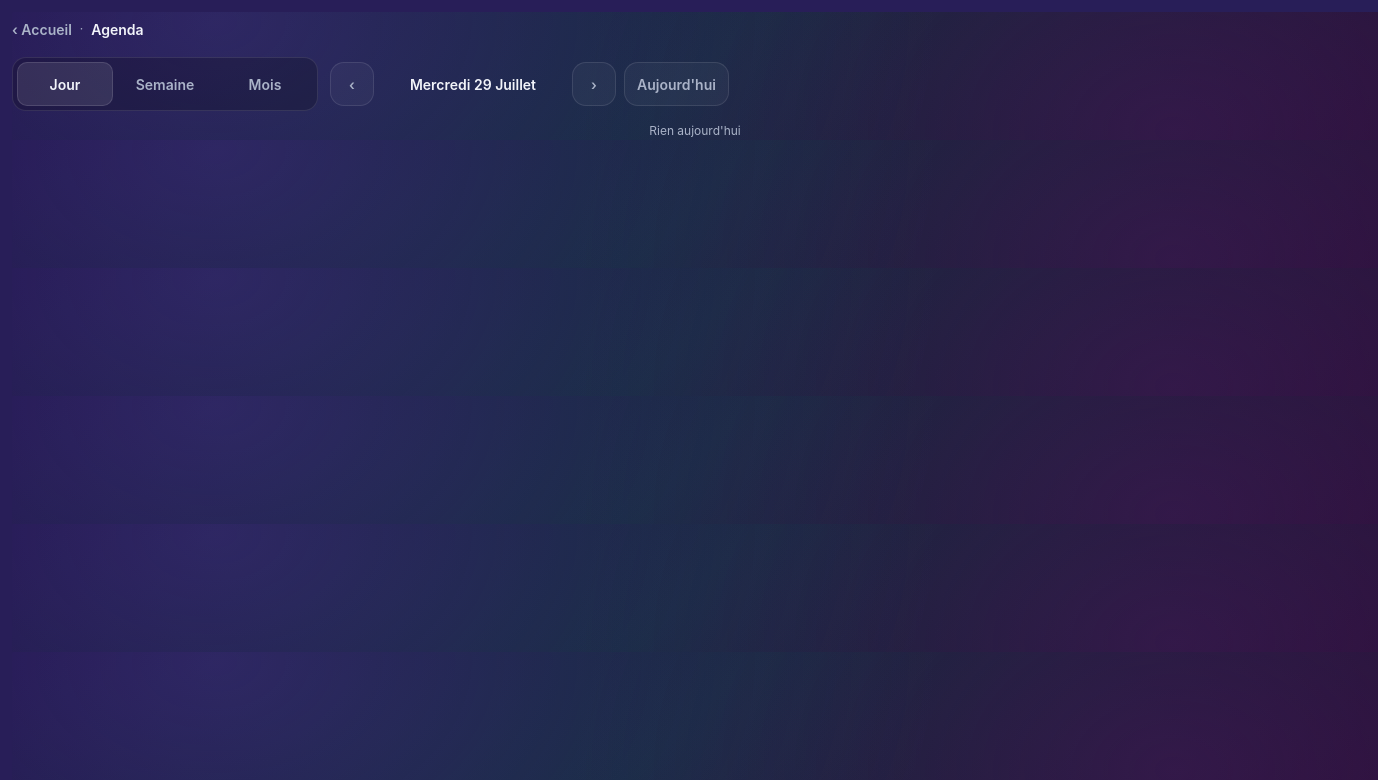
Test: AgendaDetail (Story 10.2) › « Aujourd'hui » ramène à la période contenant la date réelle
This screenshot has width=1378, height=780.
Click the button named "période suivante".
click(594, 84)  # box x1=572 y1=62 x2=616 y2=106
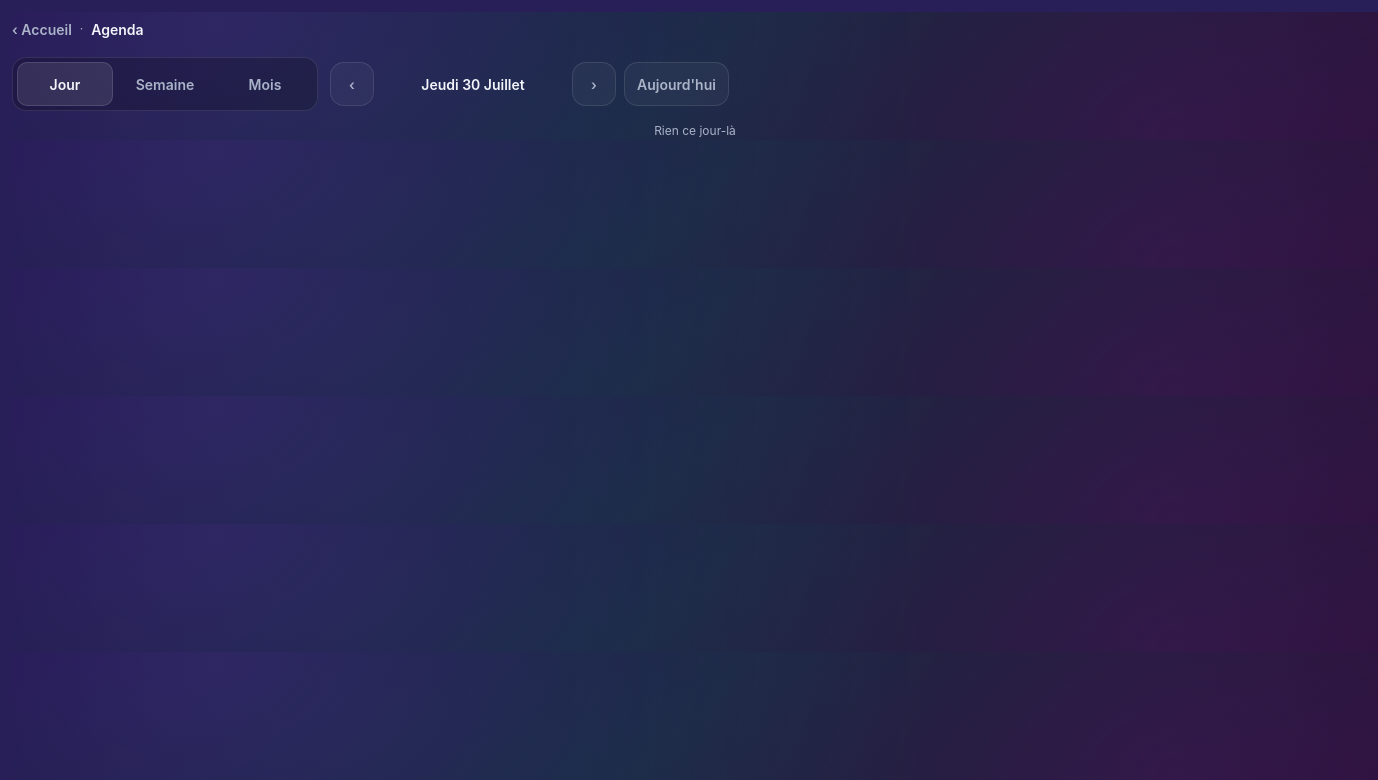
Click the button named "période suivante".
click(594, 84)  # box x1=572 y1=62 x2=616 y2=106
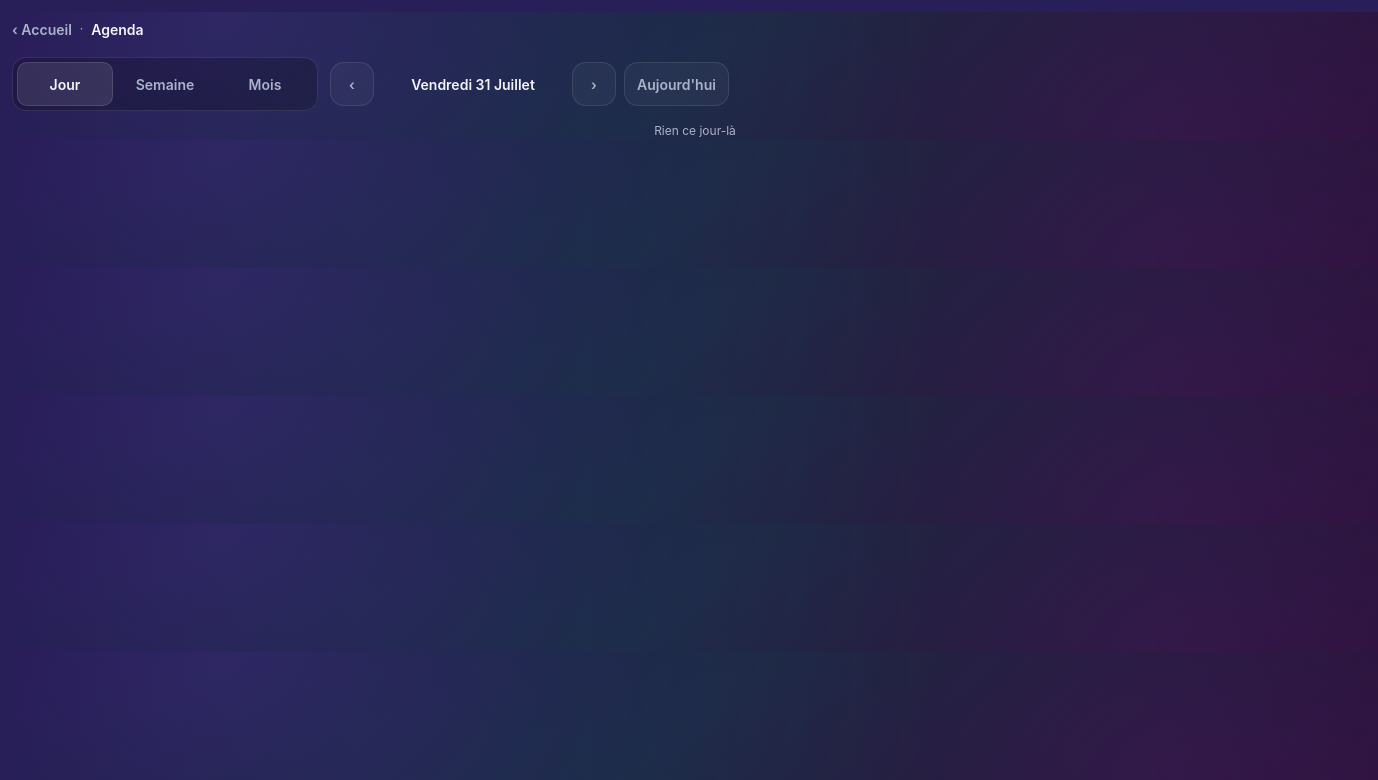
Expected: the text "mercredi 29 juillet" is not shown
Click the button "Aujourd'hui".
click(676, 84)  # box x1=624 y1=62 x2=729 y2=106
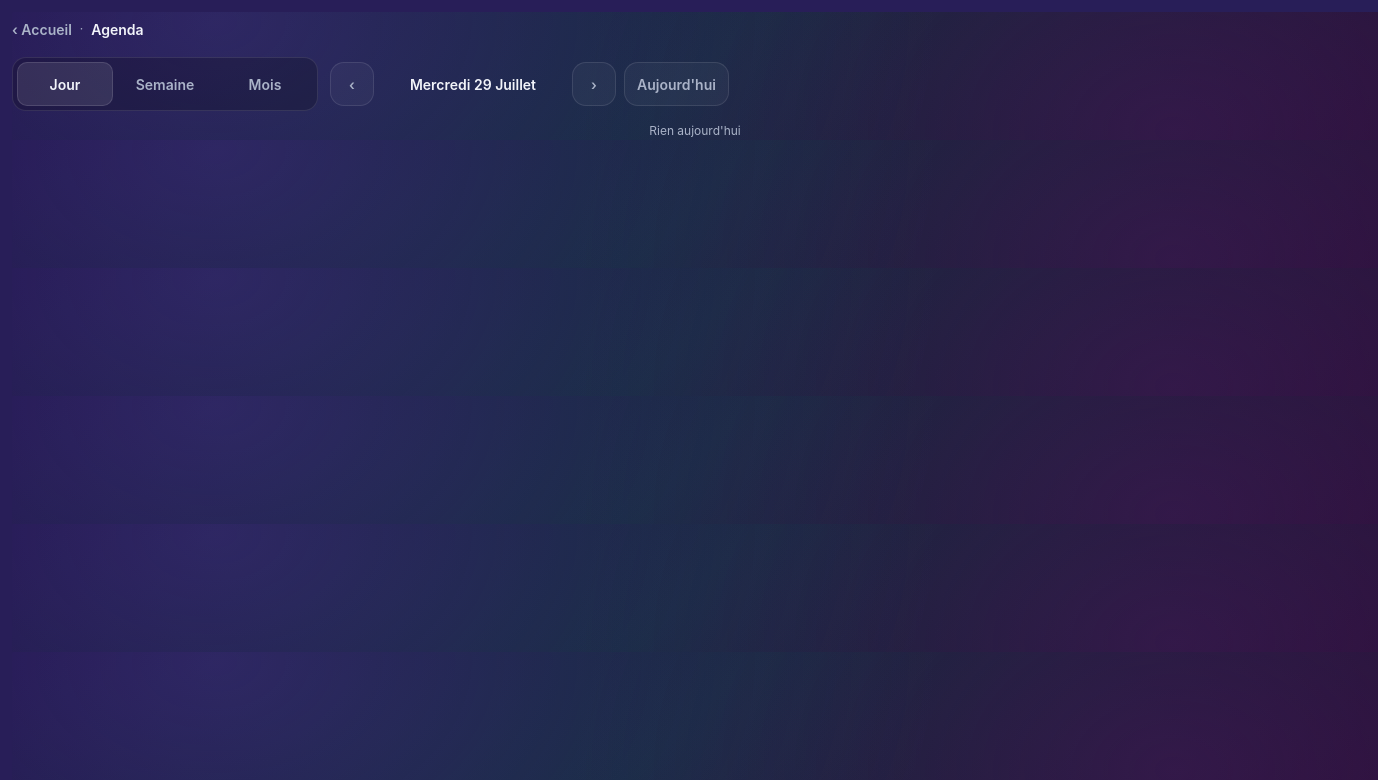
Now the text "mercredi 29 juillet" is shown, box x1=410 y1=76 x2=536 y2=92
